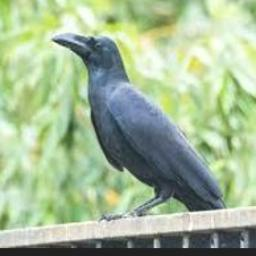Crow: (50, 32, 241, 247)
